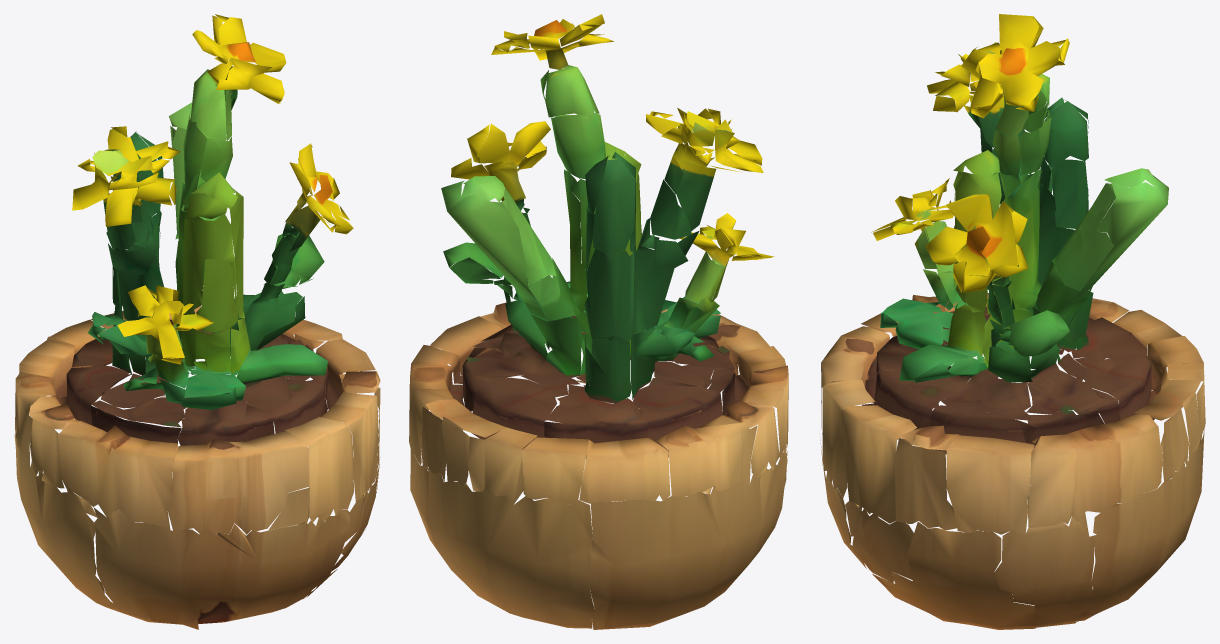
The model's file is blumenkuebel_2.glb.
3 renders of one model, left to right at view 1: azimuth 30°, elevation 25°; view 2: azimuth 150°, elevation 25°; view 3: azimuth 270°, elevation 25°, orthographic. The views are drawn at different scales.
Parts seen in each view (by area): view 1: tripo_node_cac61090-1e60-4434-9a48-e44f72401155; view 2: tripo_node_cac61090-1e60-4434-9a48-e44f72401155; view 3: tripo_node_cac61090-1e60-4434-9a48-e44f72401155.
Boxes of the visible parts, box(x1,y1,x2,y2) form: tripo_node_cac61090-1e60-4434-9a48-e44f72401155: box(14, 14, 380, 629); tripo_node_cac61090-1e60-4434-9a48-e44f72401155: box(409, 14, 788, 629); tripo_node_cac61090-1e60-4434-9a48-e44f72401155: box(819, 14, 1205, 629).
Bounding box in the file's own units: 0.6186 × 1 × 0.6153.
1 material, 1 textured.
